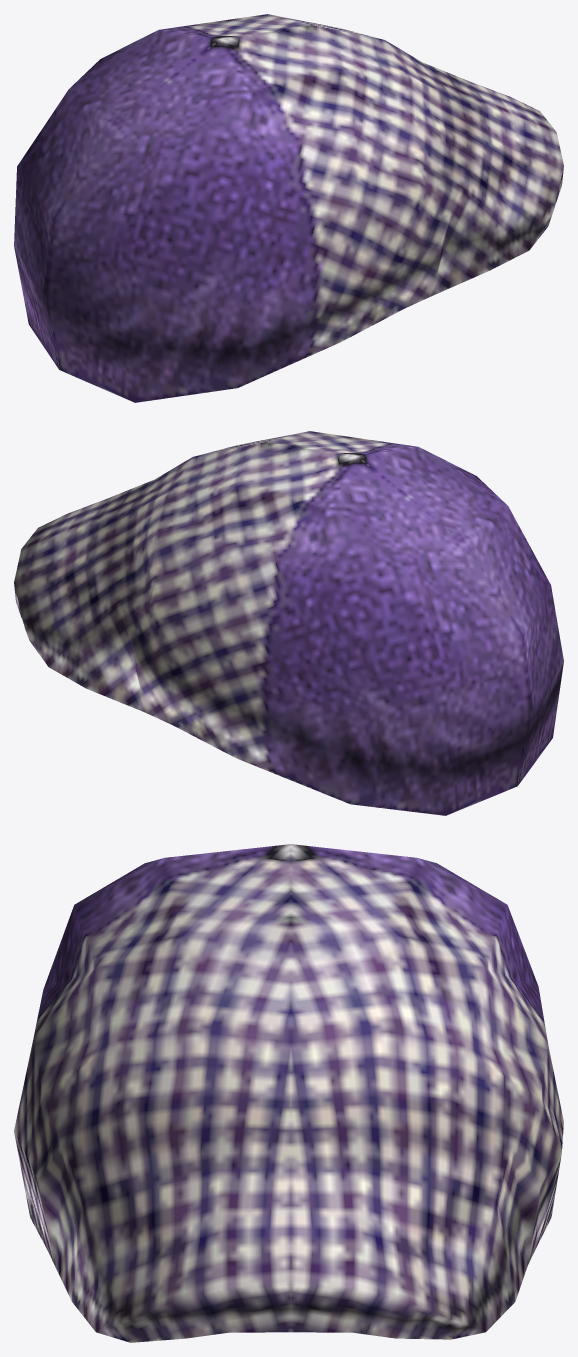
The model's file is hat_0400035.FBX.
The picture shows the model from 3 angles, top to bottom: view 1: azimuth 30°, elevation 25°; view 2: azimuth 150°, elevation 25°; view 3: azimuth 270°, elevation 25°; orthographic projection. The views are drawn at different scales.
Visible parts, largest first — view 1: hat_0400035; view 2: hat_0400035; view 3: hat_0400035.
Boxes of the visible parts, x1,y1,x2,y2 form: hat_0400035: (14, 14, 563, 402); hat_0400035: (14, 431, 563, 815); hat_0400035: (14, 844, 563, 1342).
Bounding box in the file's own units: 34.55 × 19.4 × 23.06.
